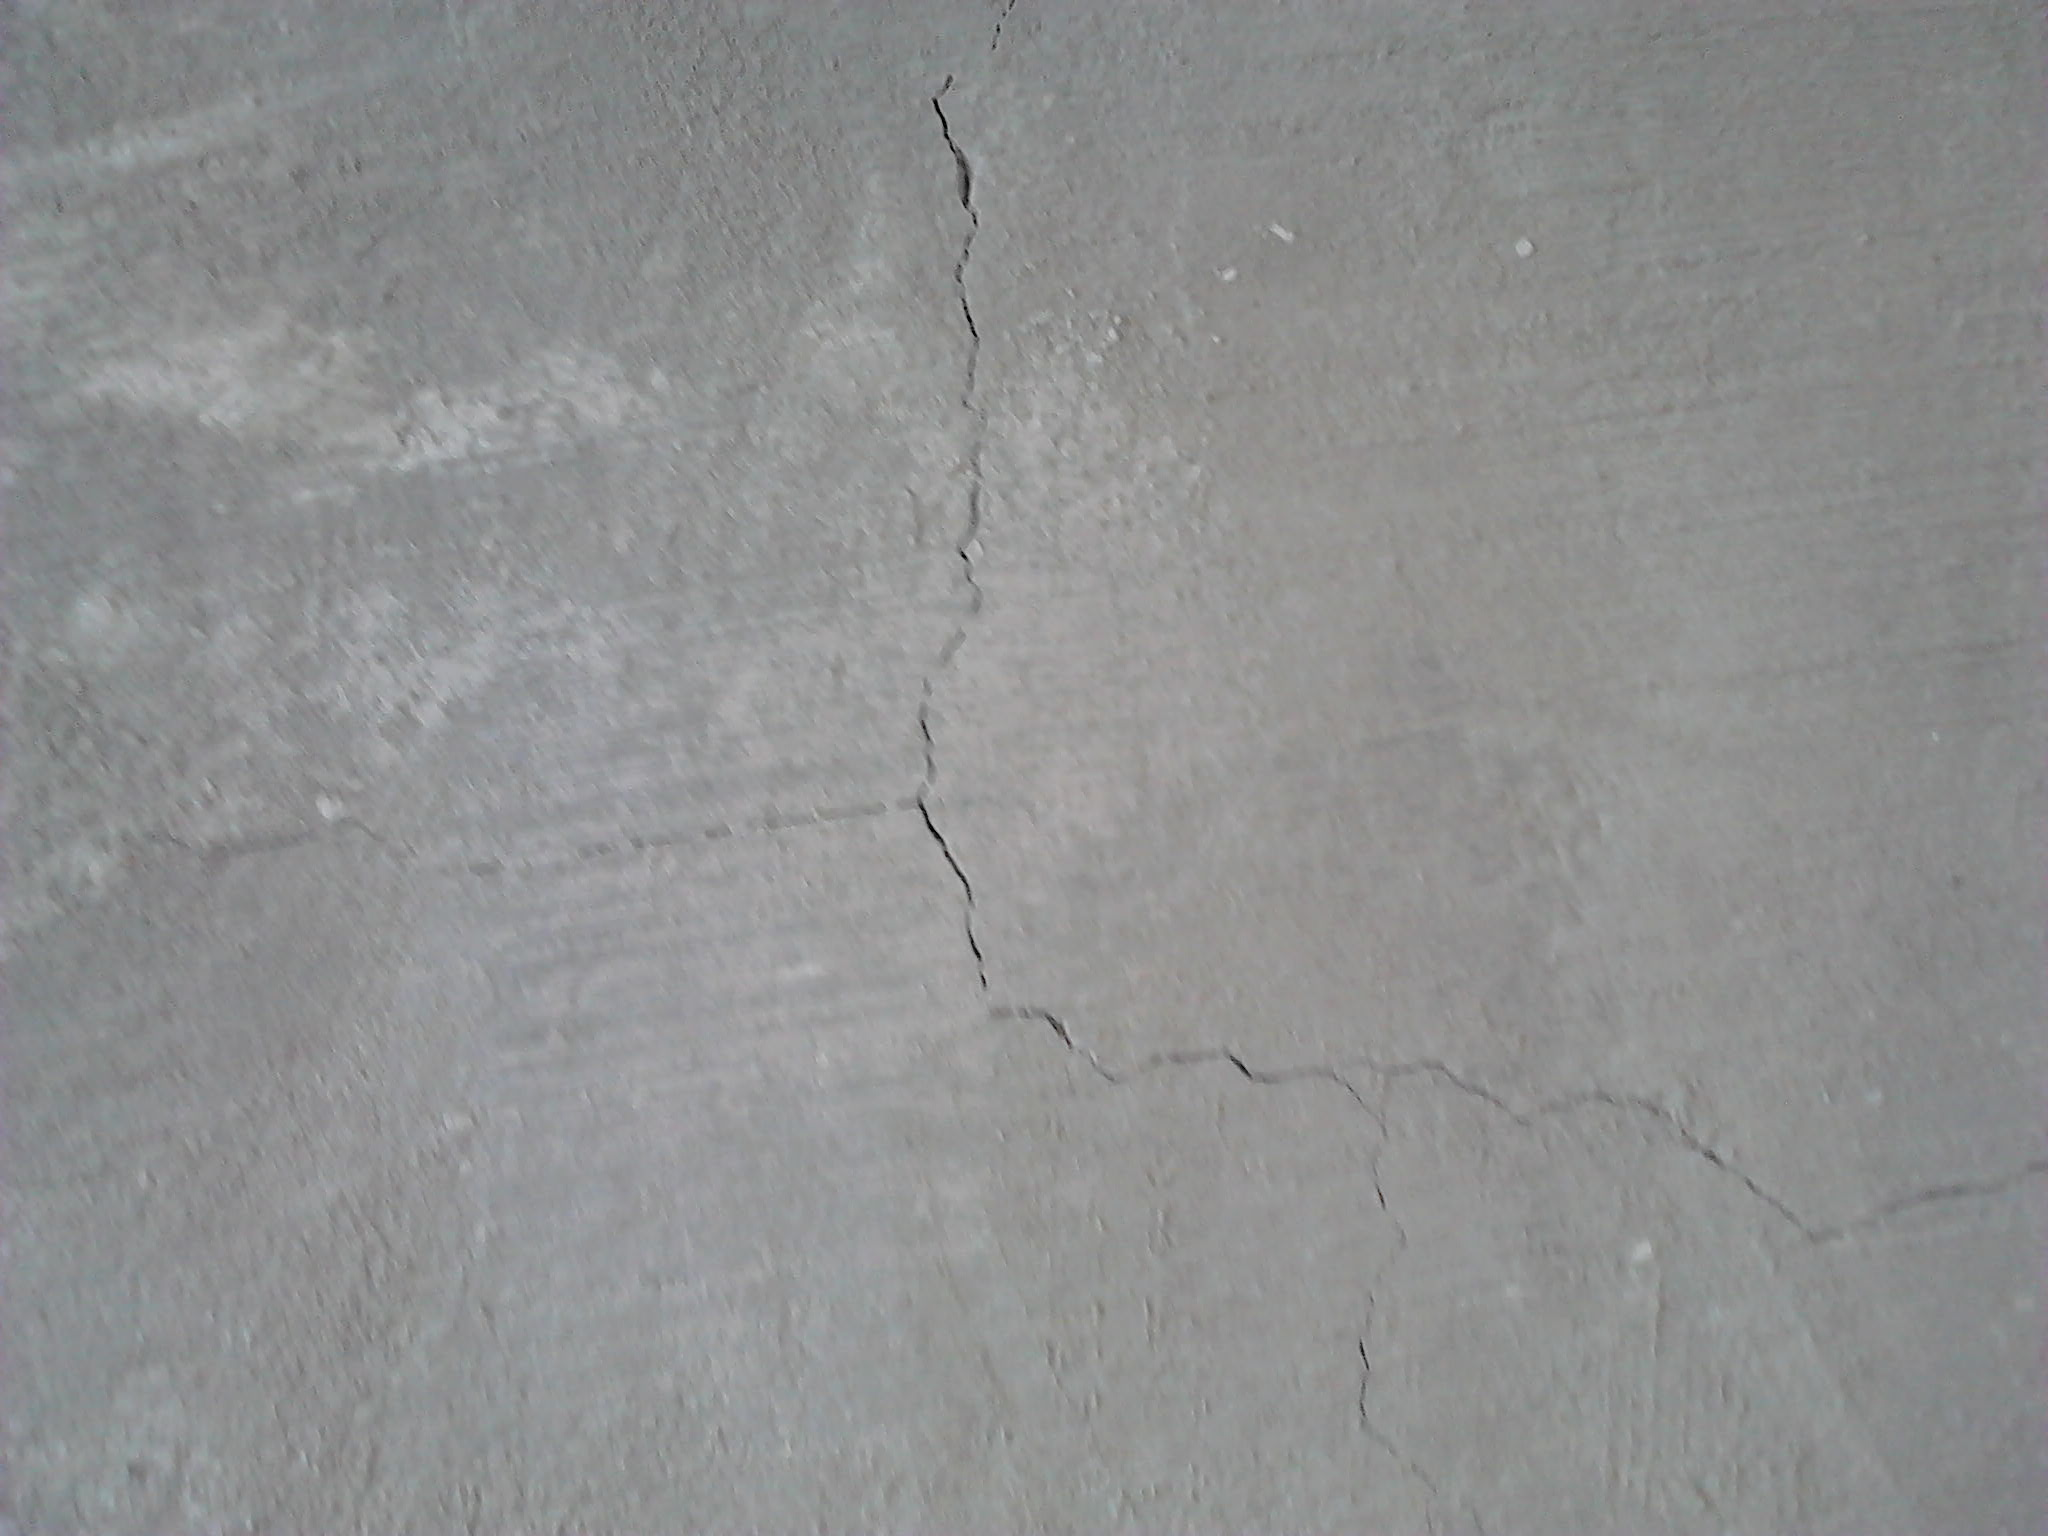crack: (842, 3, 1056, 1083)
